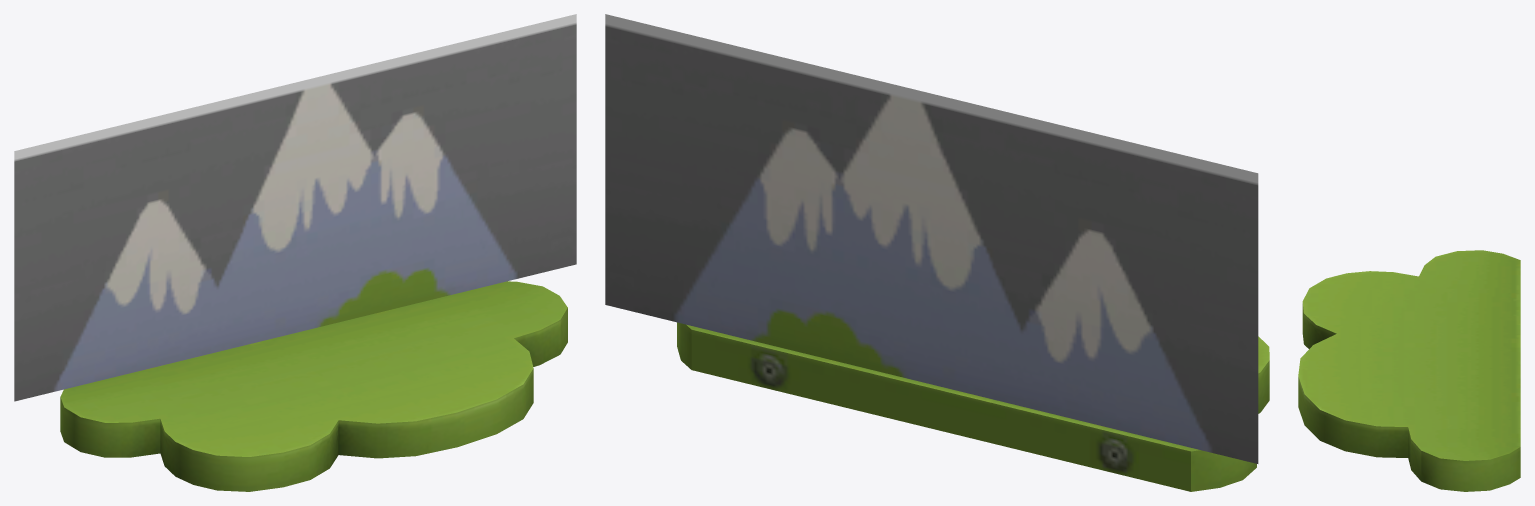
File: estanteMontaña.fbx
3 views of the same model, side by side, from view 1: azimuth 30°, elevation 25°; view 2: azimuth 150°, elevation 25°; view 3: azimuth 270°, elevation 25° (orthographic). The views are drawn at different scales.
Parts seen in each view (by area): view 1: s4studio_mesh_1; view 2: s4studio_mesh_1; view 3: s4studio_mesh_1.
Part boxes in pixels (left/top/right/bottom): s4studio_mesh_1: left=14, top=14, right=576, bottom=491; s4studio_mesh_1: left=605, top=14, right=1269, bottom=491; s4studio_mesh_1: left=1298, top=250, right=1520, bottom=491.
Size of the model in its own units: 85 by 41.21 by 32.78.
Materials: 1 (1 with a texture image).
